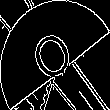O_SE: (28, 22, 82, 88)
